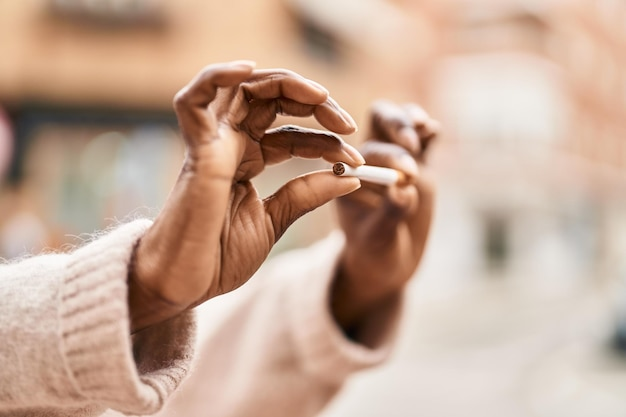cigarette: (332, 160, 409, 185)
